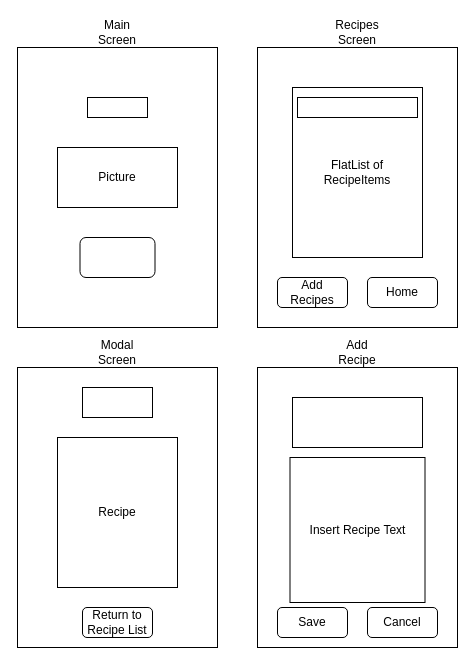
The diagram is 475 pixels wide and 665 high, and some of its shapes have lost their labels. Each missing label, with the centre of its shape:
"Button to Recipes" goes at (117,257).
"Insert Recipe Title" goes at (357,422).
"Recipe Title" goes at (117,402).
"Title" goes at (117,107).
"Title View Delete" goes at (357,107).
